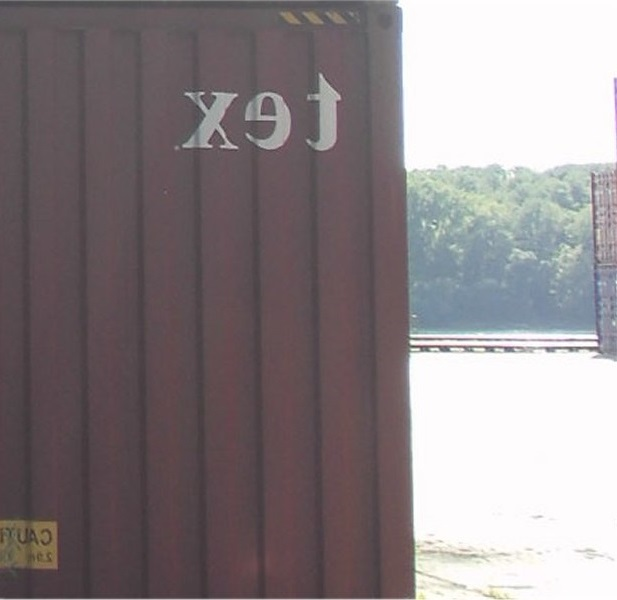container_no_door: (2, 3, 414, 600)
